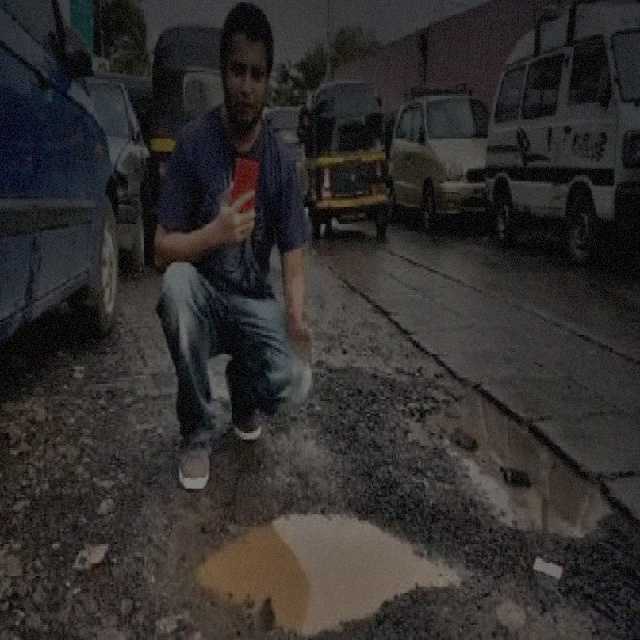pothole: (192, 501, 463, 634), (416, 384, 616, 535)
